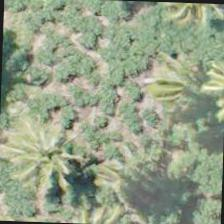Kelapa_Sawit: (8, 99, 102, 192)
